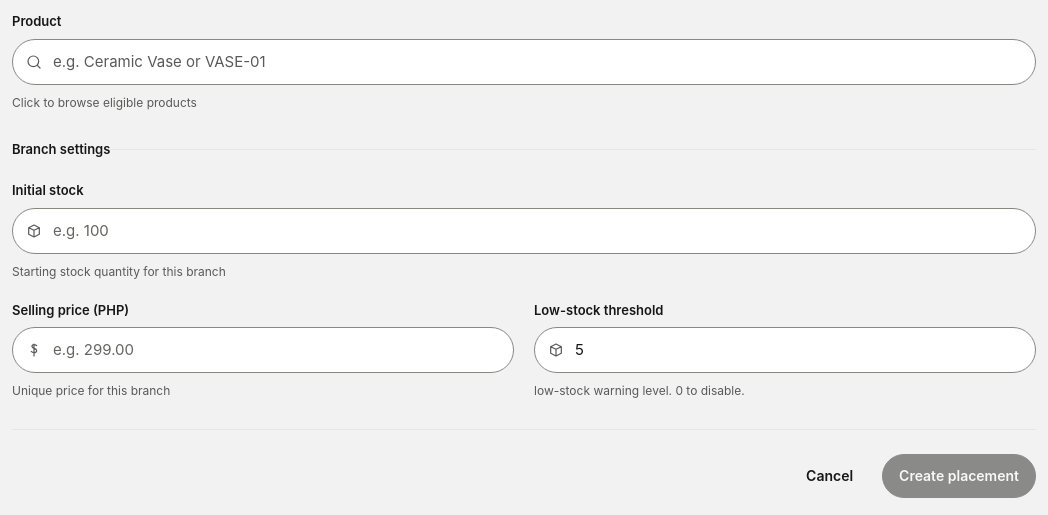
Test case: InventoryPlacementForm › requires an explicit opening-stock value before creating a placement
Click the dropdown labelled "Product" at x=524, y=62, box top-left (12, 38), bottom-right (1036, 84)
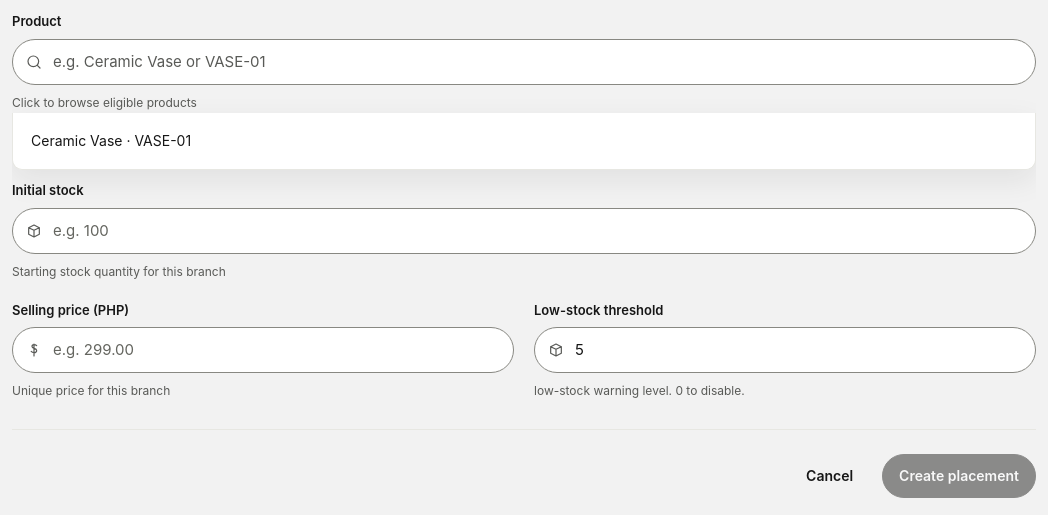
Click the option "Ceramic Vase · VASE-01" at x=111, y=140, box top-left (19, 118), bottom-right (1029, 162)
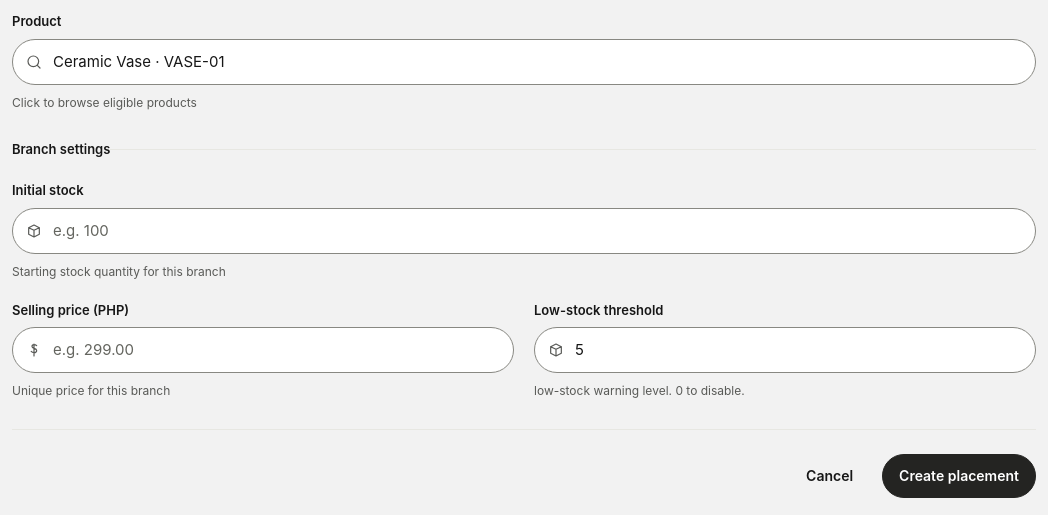
Type "12.50" into the field labelled "Selling price (PHP)" at x=263, y=350, box top-left (12, 327), bottom-right (514, 373)
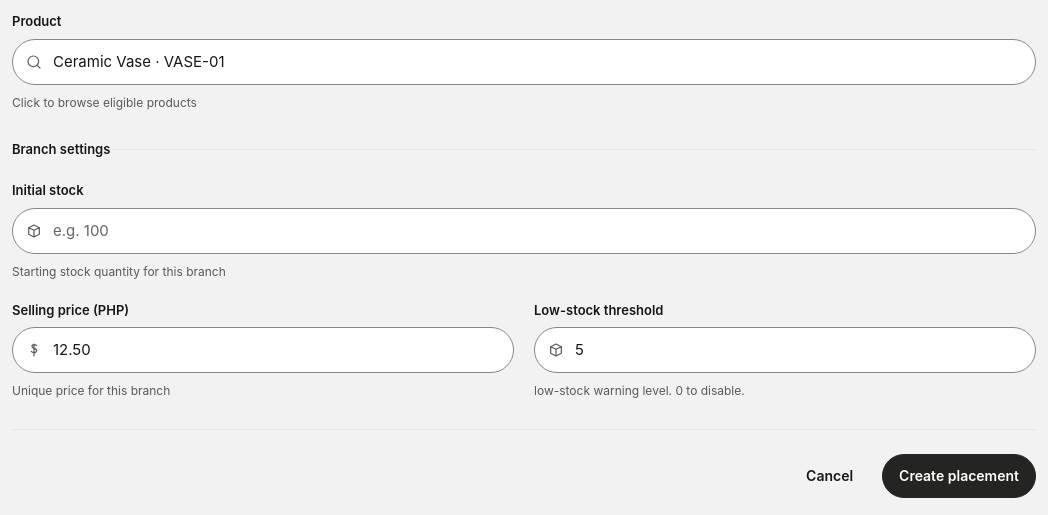
Click the button "Create placement" at x=959, y=476, box top-left (882, 454), bottom-right (1036, 498)
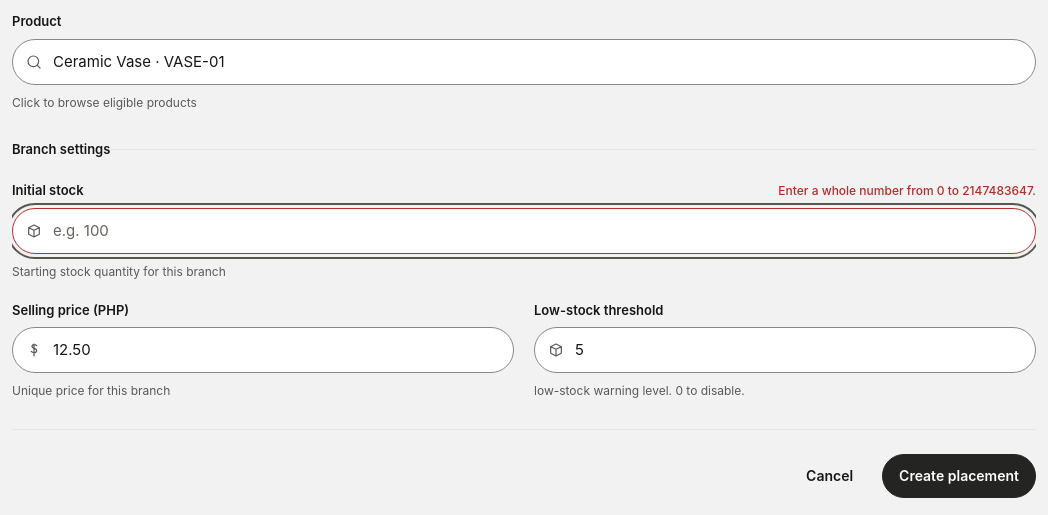
Now the text "Enter a whole number from 0 to 2147483647." is shown, box top-left (778, 183), bottom-right (1036, 199)
